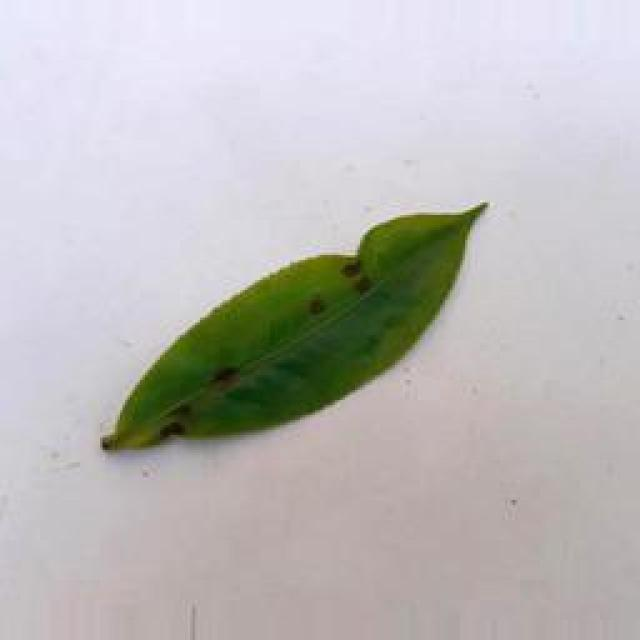Helopeltis: (98, 189, 496, 458)
